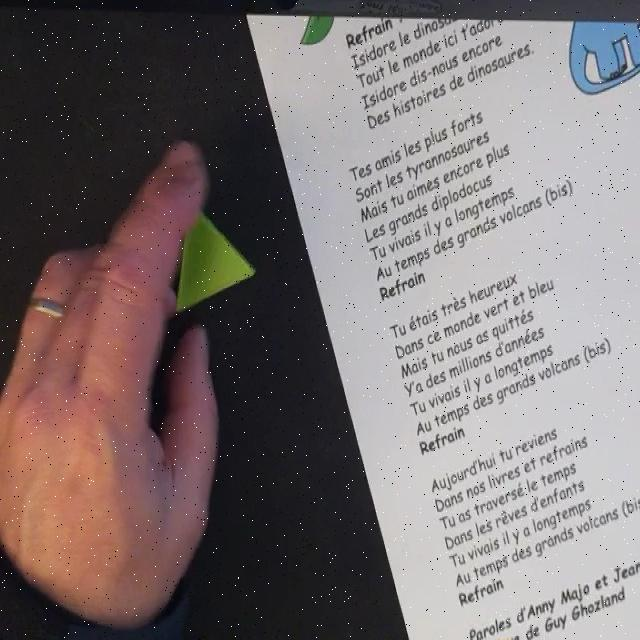triangle: (172, 202, 257, 316)
